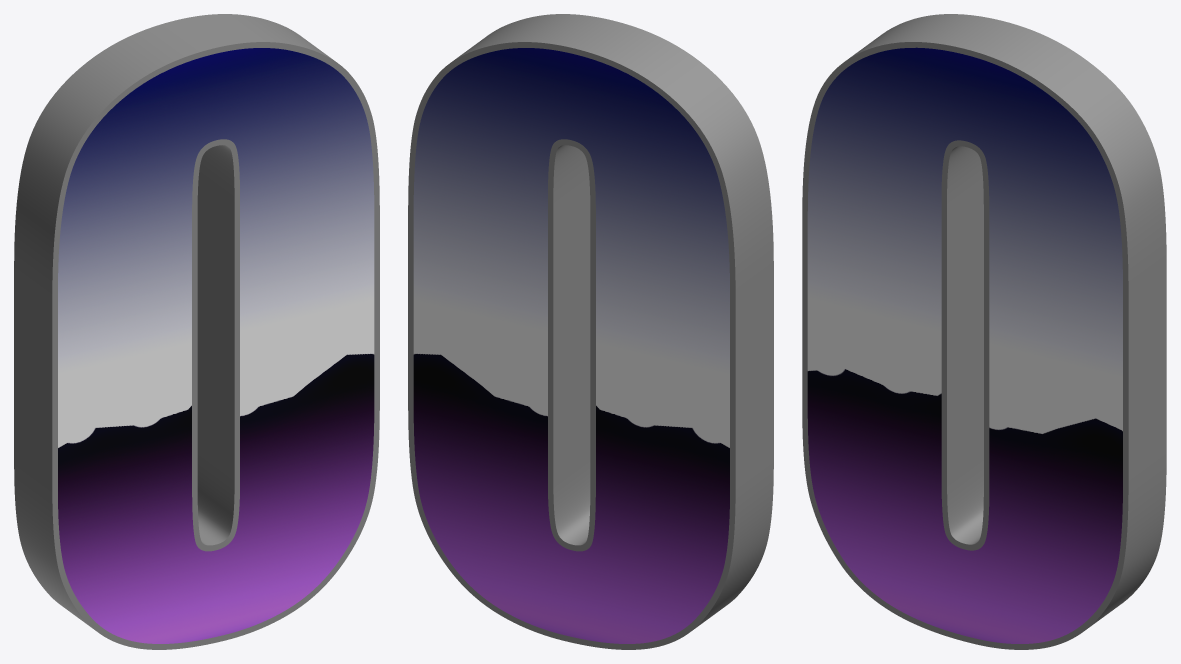
3 renders of one model, left to right at view 1: azimuth 30°, elevation 25°; view 2: azimuth 150°, elevation 25°; view 3: azimuth 330°, elevation 25°, orthographic.
Parts seen in each view (by area): view 1: 0, 0_outline; view 2: 0, 0_outline; view 3: 0, 0_outline.
Boxes of the visible parts, left/top/right/bottom form: 0: left=58, top=48, right=374, bottom=643; 0_outline: left=14, top=14, right=379, bottom=649; 0: left=413, top=48, right=729, bottom=643; 0_outline: left=408, top=14, right=773, bottom=649; 0: left=807, top=47, right=1122, bottom=643; 0_outline: left=802, top=14, right=1166, bottom=649.
Size of the model in its own units: 59.3 by 103 by 12.
Materials: 2 (1 with a texture image).
